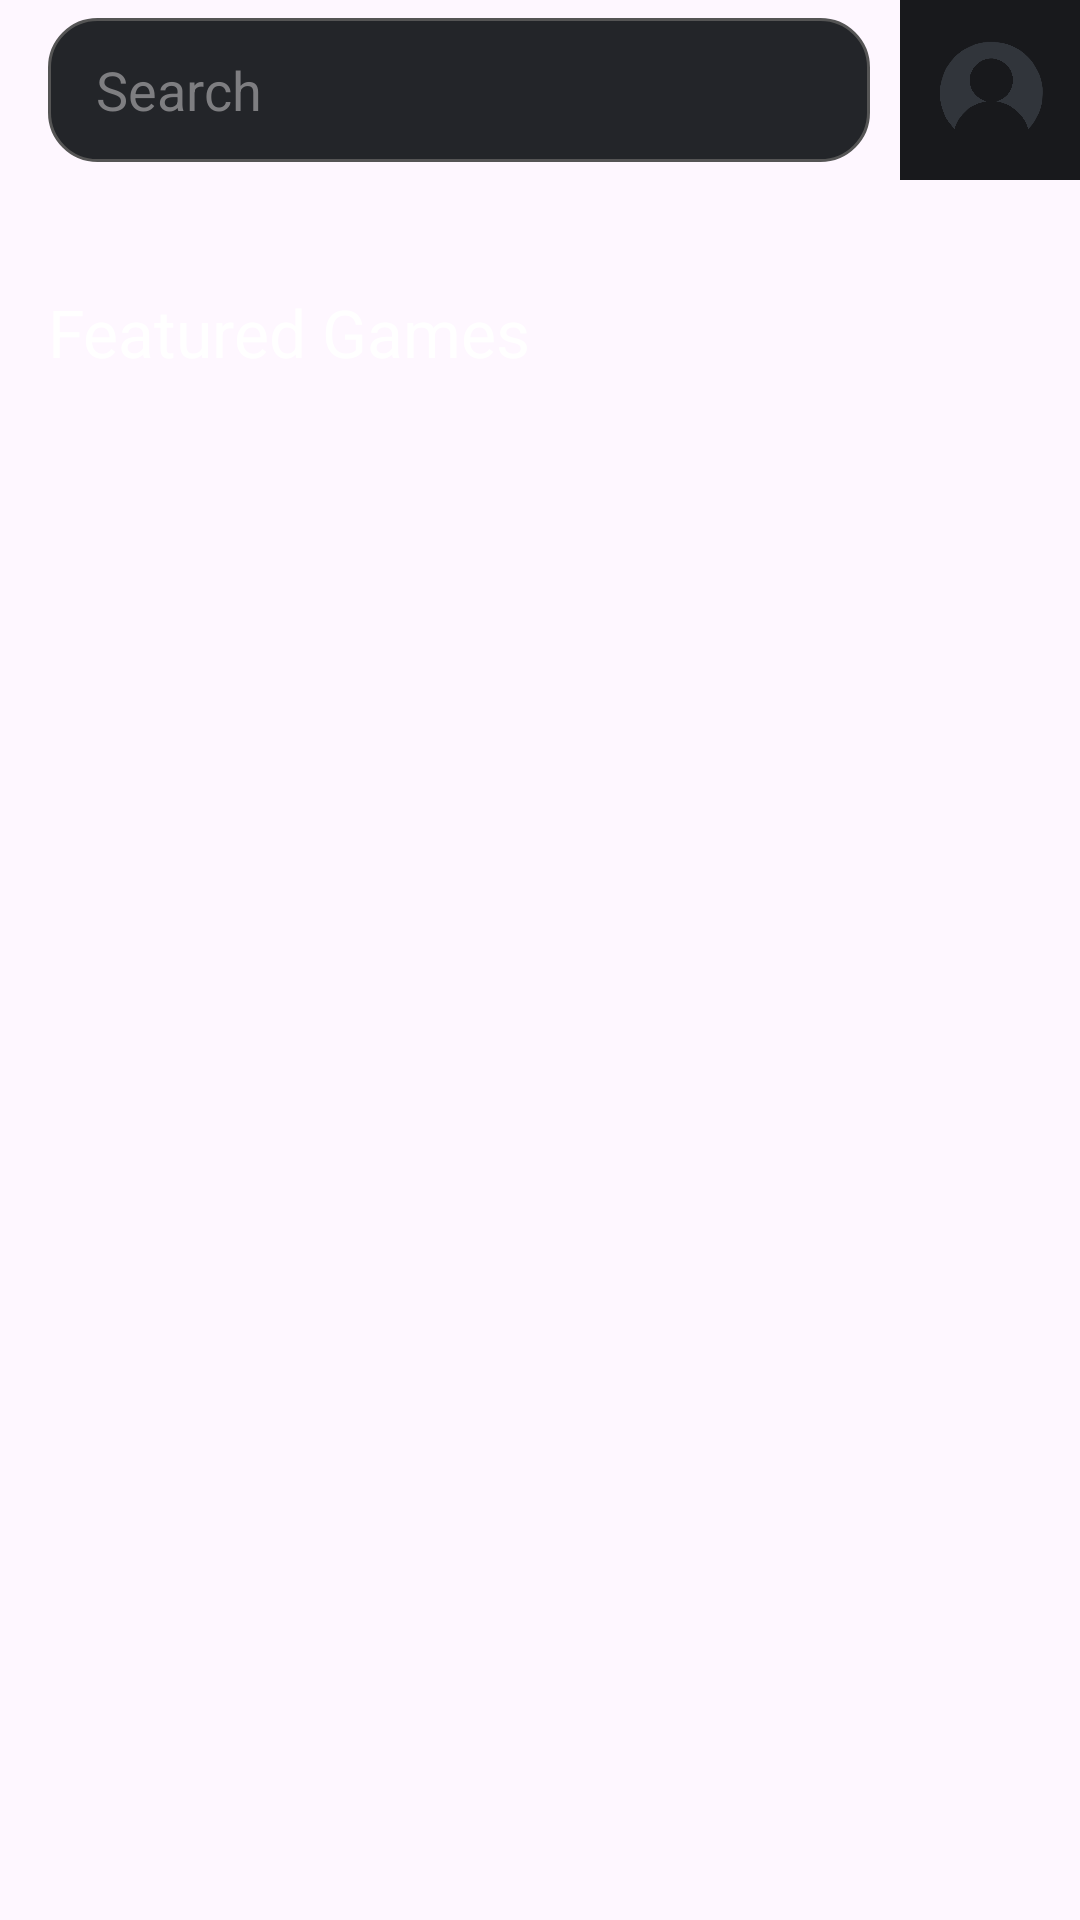

Where to tap for icons on this 1080px×1920px app screen, as [x,y]:
usuario: [990,90]
